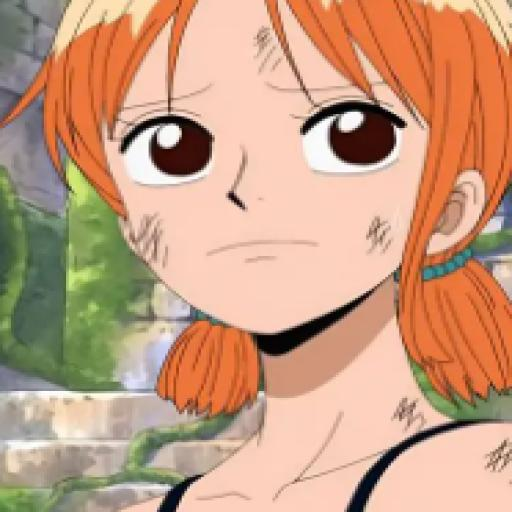Nami: (10, 1, 512, 512)
